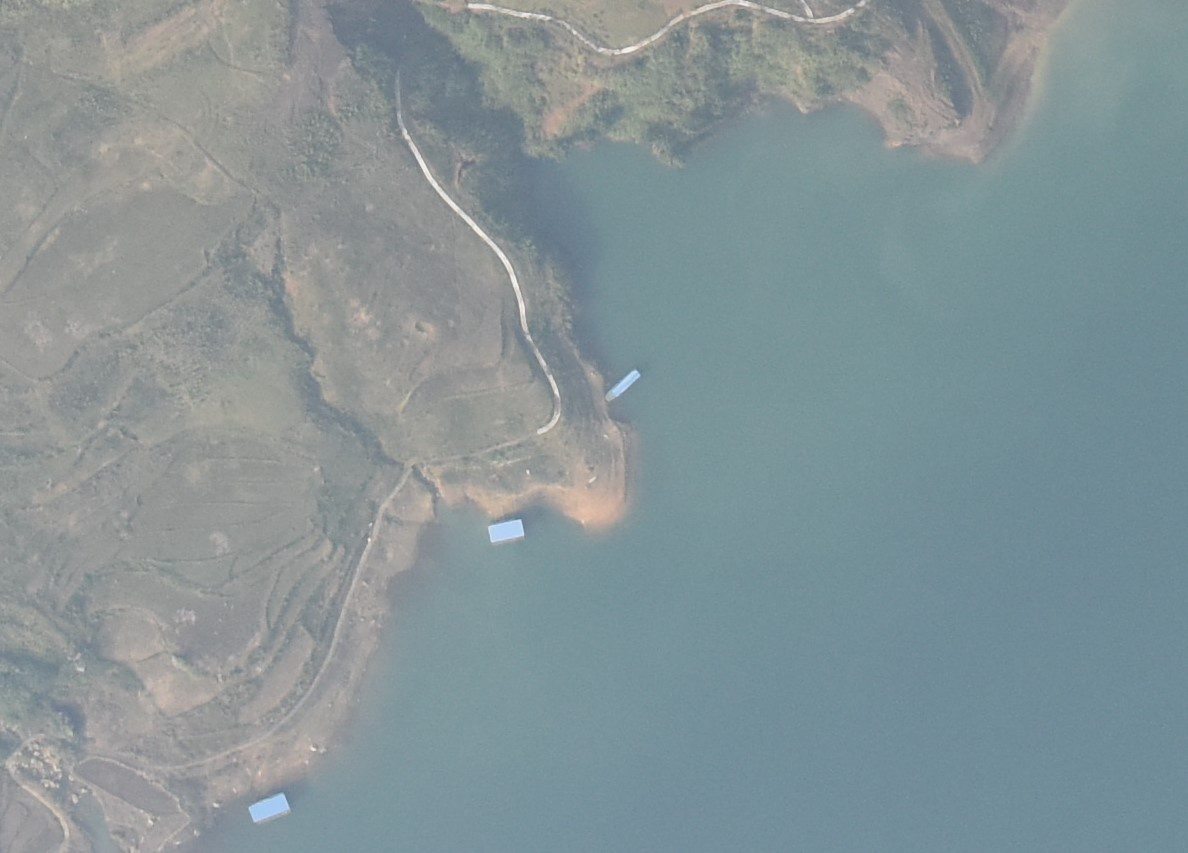prefabricated-house: (238, 789, 299, 828), (478, 511, 534, 552)
ship: (602, 367, 643, 405)
